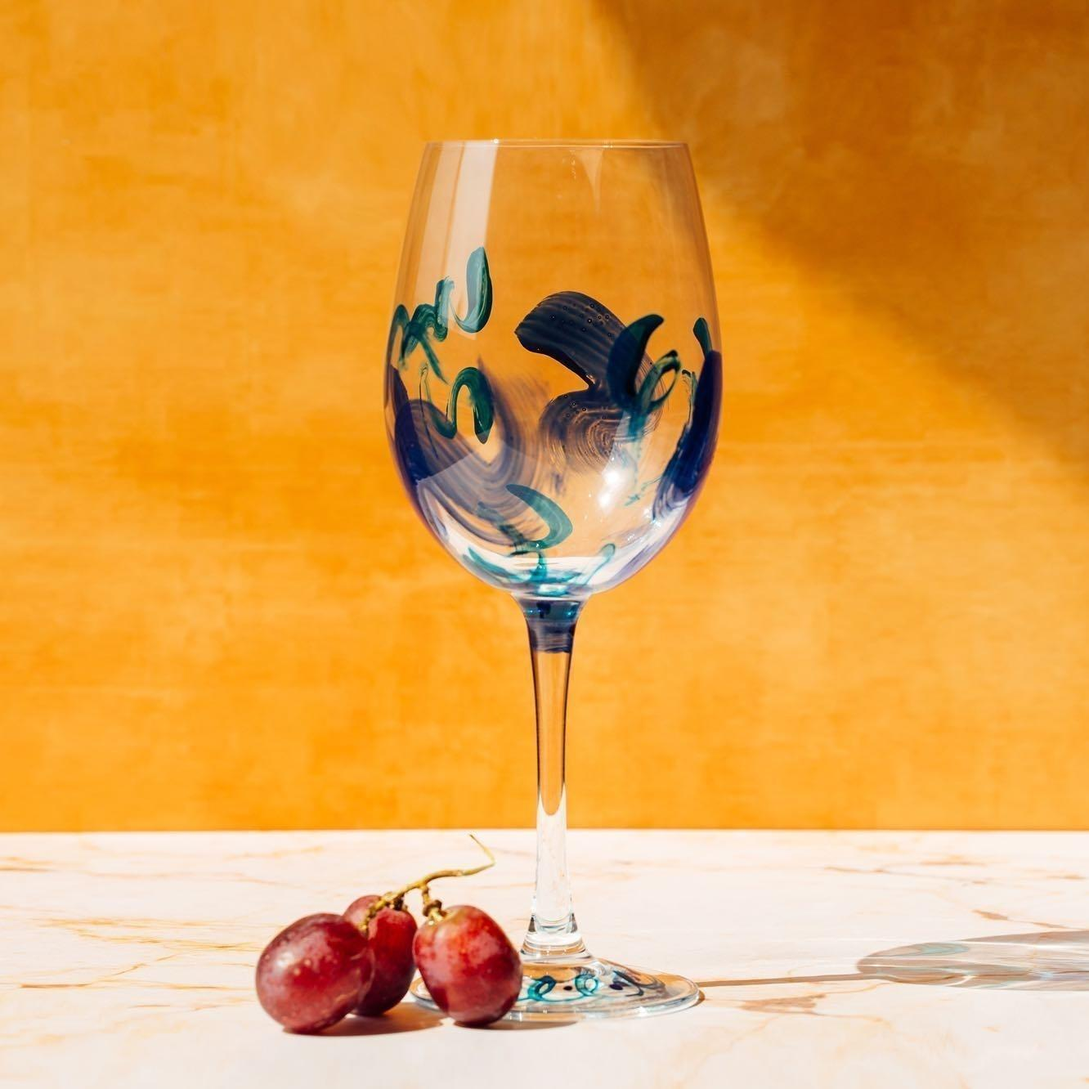glass-wine: (380, 116, 737, 1028)
